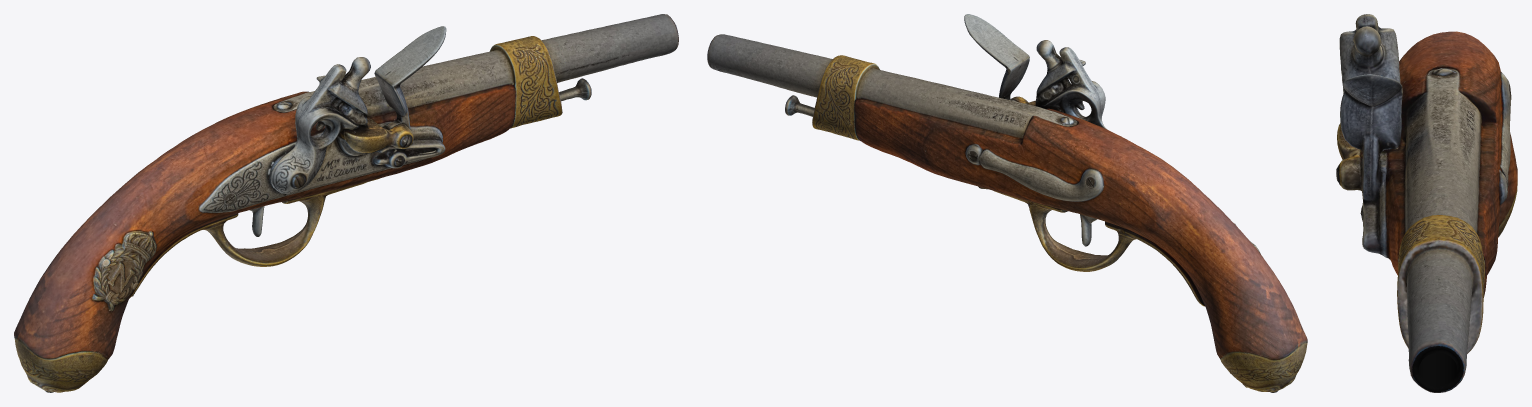
The model's file is Gun_4014_A.gltf.
3 views of the same model, side by side, from view 1: azimuth 30°, elevation 25°; view 2: azimuth 150°, elevation 25°; view 3: azimuth 270°, elevation 25° (orthographic). The views are drawn at different scales.
Visible parts, largest first — view 1: PISTOL_02.001; view 2: PISTOL_02.001; view 3: PISTOL_02.001.
Boxes of the visible parts, x1,y1,x2,y2 form: PISTOL_02.001: (14, 14, 678, 392); PISTOL_02.001: (707, 14, 1307, 392); PISTOL_02.001: (1336, 14, 1517, 392).
Bounding box in the file's own units: 0.5287 × 0.2349 × 0.09.
1 material, 1 textured.
